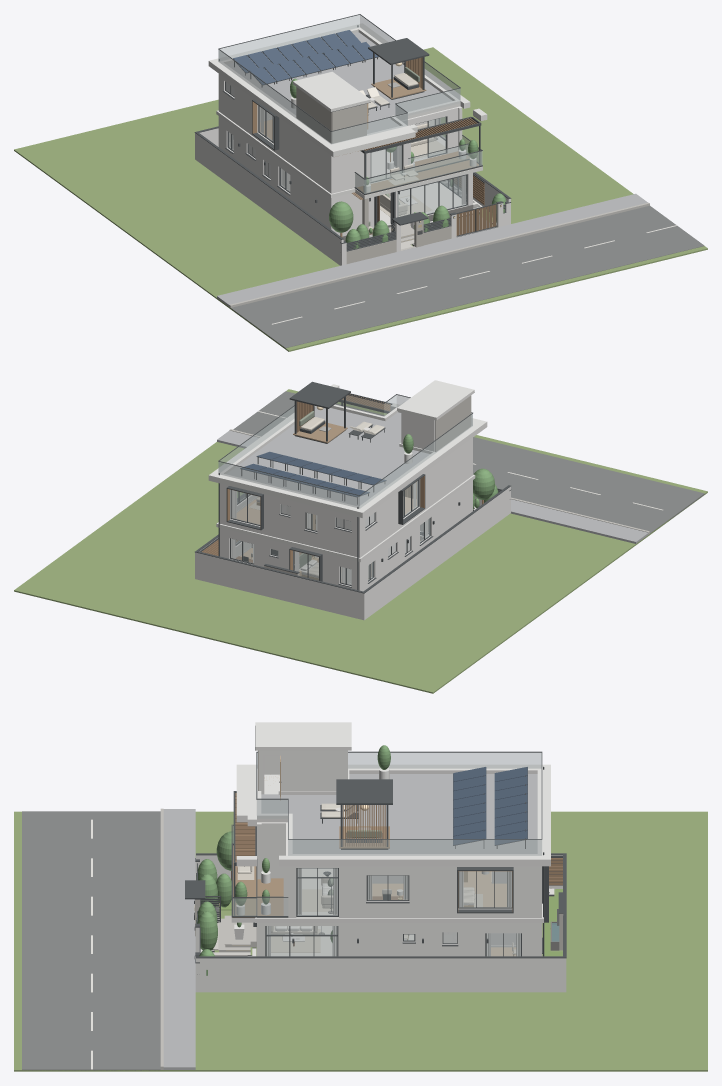
The picture shows the model from 3 angles, top to bottom: view 1: azimuth 30°, elevation 25°; view 2: azimuth 150°, elevation 25°; view 3: azimuth 270°, elevation 25°; orthographic projection. The views are drawn at different scales.
Parts seen in each view (by area): view 1: world, roof-guard-0, roof-terrace-pavers, roof-overhang, ST-1-headhouse-lid, F1-W041/0, roof-upstand, F0-W001/0, F1-W042/0, F0-living/floor, F1-W043/1, roof-sala-roof (+7 smaller); view 2: world, roof-terrace-pavers, roof-guard-0, roof-overhang, ST-1-headhouse-lid, roof-upstand, F1-W041/0, F1-slab-band, F0-W001/0, F1-W043/1, roof-sala-roof, ST-1-roof-wall-rear/0 (+5 smaller); view 3: world, roof-terrace-pavers, roof-guard-0, roof-overhang, ST-1-headhouse-lid, roof-upstand, ST-1-roof-wall-right/0, F1-W070/1, roof-sala-roof, F1-slab-band, F1-W068/0, F1-W069/0 (+18 smaller).
Part boxes in pixels (x1,y1,x2,y2): world: [14, 25, 707, 351]; roof-guard-0: [218, 15, 460, 144]; roof-terrace-pavers: [226, 32, 451, 133]; roof-overhang: [208, 23, 487, 157]; ST-1-headhouse-lid: [293, 71, 370, 111]; F1-W041/0: [294, 129, 334, 193]; roof-upstand: [219, 27, 460, 144]; F0-W001/0: [294, 171, 334, 231]; F1-W042/0: [334, 151, 369, 192]; F0-living/floor: [380, 182, 466, 223]; F1-W043/1: [238, 88, 293, 159]; roof-sala-roof: [368, 38, 429, 64]; world: [14, 389, 707, 693]; roof-terrace-pavers: [227, 408, 429, 506]; roof-guard-0: [218, 395, 472, 508]; roof-overhang: [208, 384, 487, 517]; ST-1-headhouse-lid: [397, 380, 474, 420]; roof-upstand: [220, 404, 472, 508]; F1-W041/0: [435, 438, 472, 502]; F1-slab-band: [216, 474, 475, 561]; F0-W001/0: [435, 480, 472, 538]; F1-W043/1: [380, 465, 435, 536]; roof-sala-roof: [289, 381, 350, 408]; ST-1-roof-wall-rear/0: [402, 412, 434, 451]; world: [14, 726, 707, 1071]; roof-terrace-pavers: [261, 774, 537, 853]; roof-guard-0: [257, 752, 541, 855]; roof-overhang: [236, 764, 550, 866]; ST-1-headhouse-lid: [255, 722, 351, 750]; roof-upstand: [257, 768, 541, 855]; ST-1-roof-wall-right/0: [260, 755, 346, 794]; F1-W070/1: [433, 868, 537, 909]; roof-sala-roof: [336, 779, 392, 804]; F1-slab-band: [255, 903, 543, 922]; F1-W068/0: [283, 868, 351, 917]; F1-W069/0: [351, 901, 433, 917].
Size of the model in its own units: 30.2 by 9.58 by 34.29.
